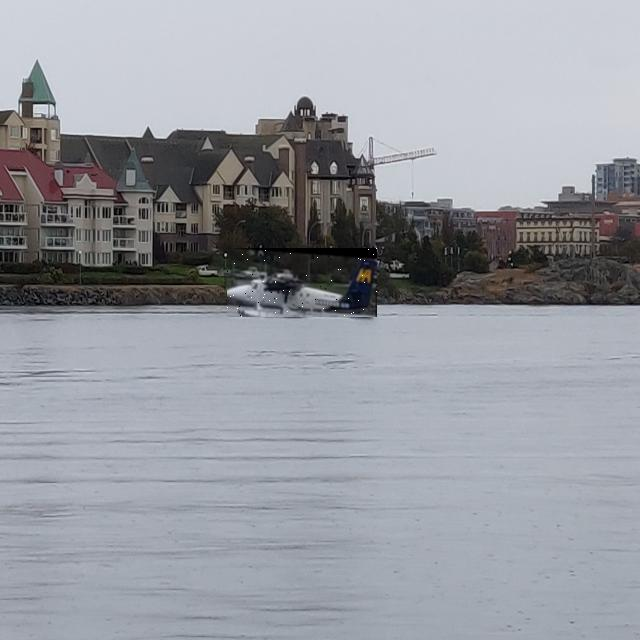aircraft: (227, 248, 377, 317)
